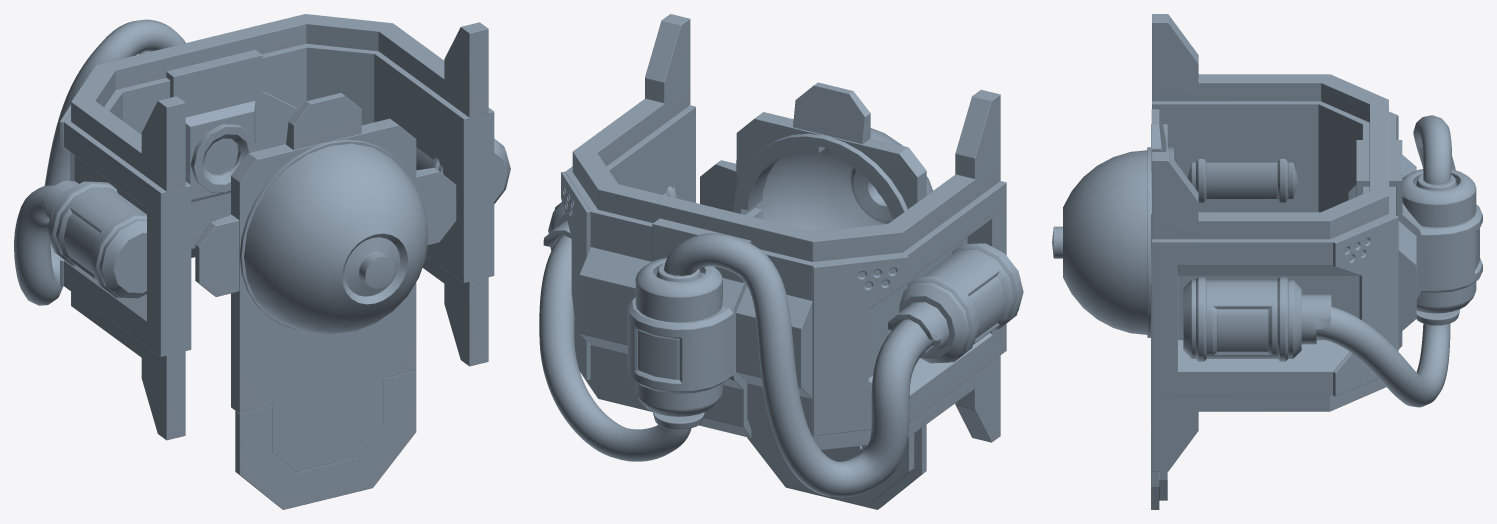
The model's file is obj_survivalobject_ballgoal.fbx.
3 views of the same model, side by side, from view 1: azimuth 30°, elevation 25°; view 2: azimuth 150°, elevation 25°; view 3: azimuth 270°, elevation 25° (orthographic). The views are drawn at different scales.
Visible parts, largest first — view 1: Cube.016; view 2: Cube.016; view 3: Cube.016.
Boxes of the visible parts, bbox=[...] form: Cube.016: bbox=[14, 14, 510, 509]; Cube.016: bbox=[539, 14, 1023, 509]; Cube.016: bbox=[1052, 14, 1482, 509].
Size of the model in its own units: 42.08 by 41.84 by 40.6.
